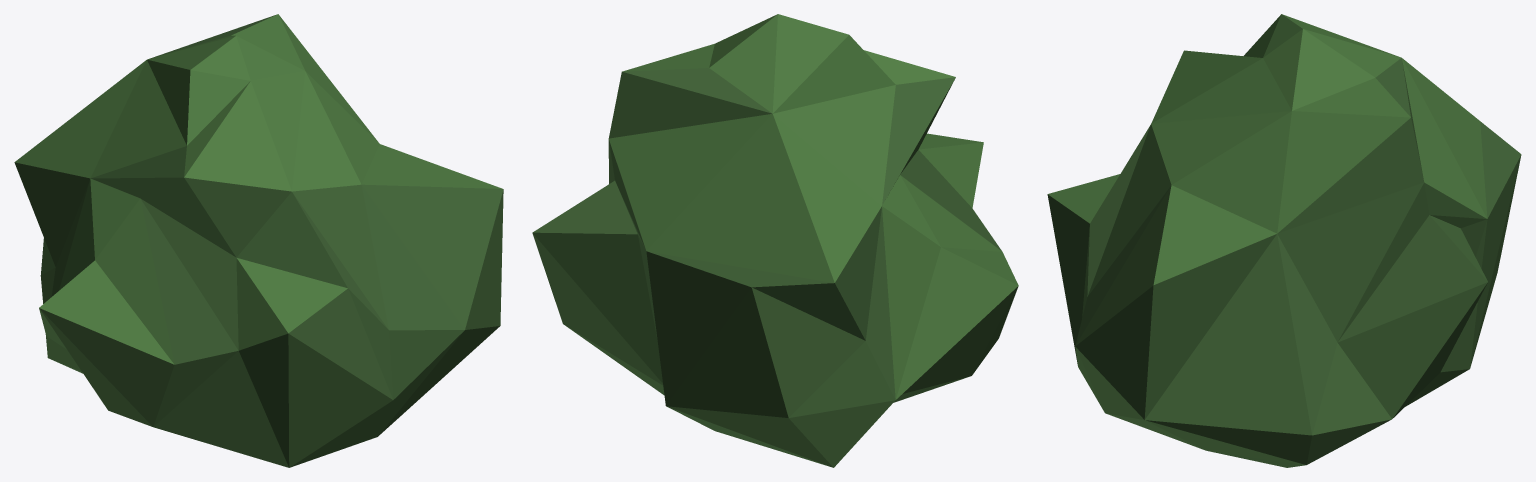
File: SM_Env_Bush_01.fbx
The picture shows the model from 3 angles, left to right: view 1: azimuth 30°, elevation 25°; view 2: azimuth 150°, elevation 25°; view 3: azimuth 270°, elevation 25°; orthographic projection. The views are drawn at different scales.
Parts seen in each view (by area): view 1: SM_Env_Bush_01; view 2: SM_Env_Bush_01; view 3: SM_Env_Bush_01.
Boxes of the visible parts, x1,y1,x2,y2 form: SM_Env_Bush_01: (14, 14, 503, 467); SM_Env_Bush_01: (532, 14, 1018, 467); SM_Env_Bush_01: (1047, 14, 1521, 467).
Size of the model in its own units: 0.0208 by 0.0187 by 0.02.
1 material, 1 textured.
